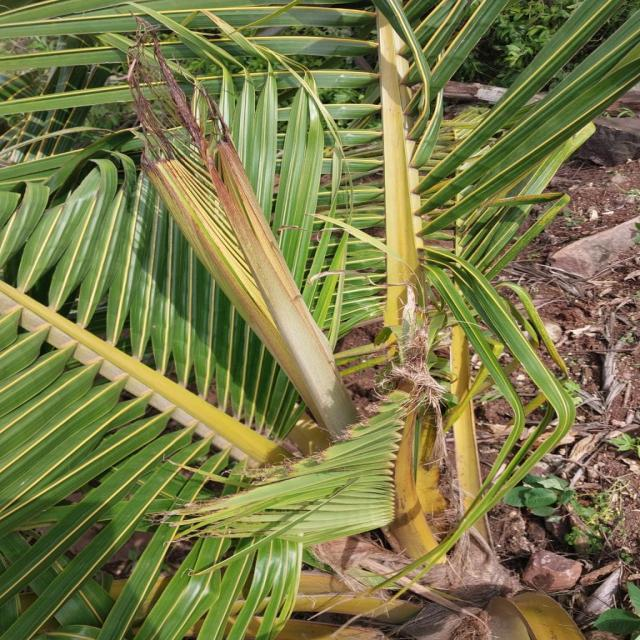bud rot: (128, 8, 378, 436), (367, 158, 437, 396), (388, 412, 437, 558)
